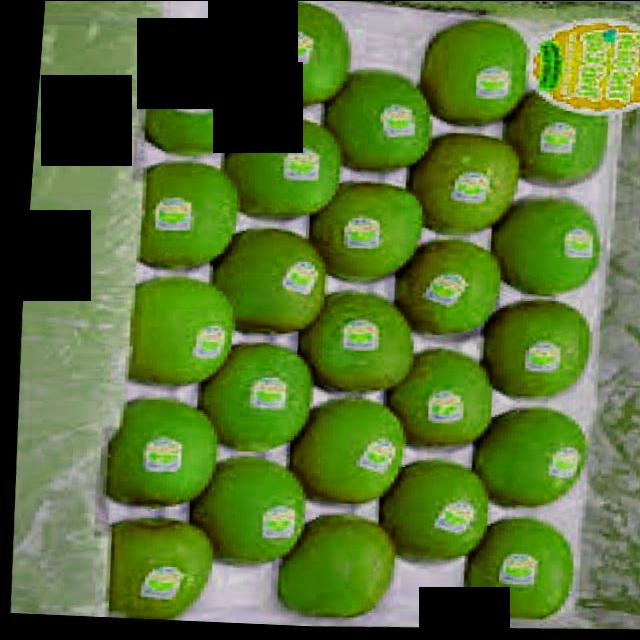kiwi: (228, 106, 347, 225), (405, 18, 527, 130), (227, 2, 349, 114), (303, 285, 419, 402), (138, 49, 254, 166), (115, 395, 221, 520), (302, 513, 404, 631), (206, 458, 308, 576), (136, 279, 238, 397), (219, 221, 323, 332), (116, 519, 221, 626), (502, 191, 597, 306), (481, 409, 581, 510), (315, 187, 414, 281), (331, 80, 430, 172), (490, 512, 557, 629), (321, 397, 387, 505), (411, 152, 508, 219), (509, 116, 593, 159), (420, 455, 449, 575), (252, 346, 279, 457), (181, 167, 207, 262), (405, 393, 490, 413), (412, 282, 497, 302), (526, 331, 547, 370)
